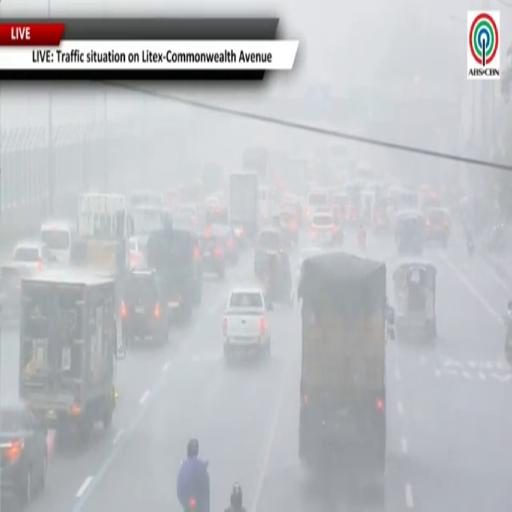car: (0, 404, 47, 505), (121, 270, 170, 345), (224, 287, 272, 360), (0, 263, 33, 321), (254, 228, 285, 277), (40, 221, 75, 264), (204, 223, 238, 264), (200, 227, 226, 278), (12, 242, 55, 270), (310, 213, 343, 245), (297, 247, 324, 281), (305, 189, 329, 219), (173, 204, 199, 229), (129, 236, 146, 269), (205, 203, 229, 225)
motorcycle: (504, 310, 511, 365), (467, 236, 475, 255)
truck: (298, 251, 393, 500), (19, 269, 125, 441), (71, 194, 133, 299), (147, 224, 202, 321), (230, 172, 259, 239), (243, 146, 269, 183)
